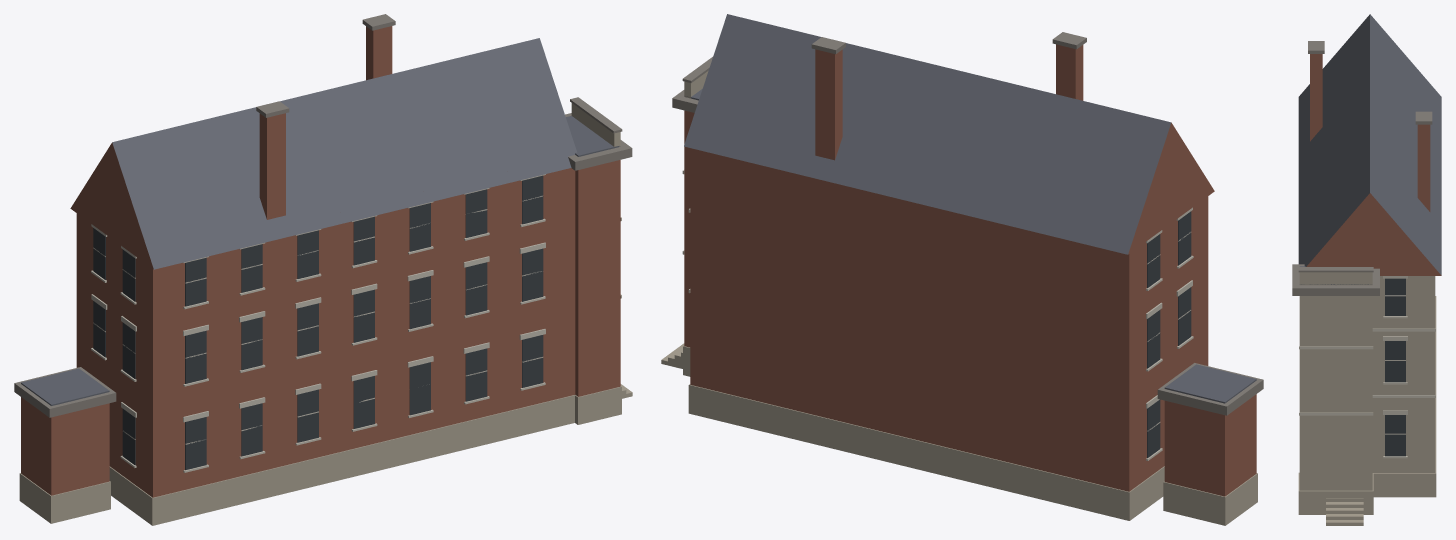
The model's file is rees_house_2110_prairie__draft_1904.glb.
3 renders of one model, left to right at view 1: azimuth 30°, elevation 25°; view 2: azimuth 150°, elevation 25°; view 3: azimuth 270°, elevation 25°, orthographic. The views are drawn at different scales.
Visible parts, largest first — view 1: rees_house_2110_prairie__draft_1904; view 2: rees_house_2110_prairie__draft_1904; view 3: rees_house_2110_prairie__draft_1904.
Boxes of the visible parts, x1,y1,x2,y2 form: rees_house_2110_prairie__draft_1904: (14, 14, 632, 525); rees_house_2110_prairie__draft_1904: (661, 14, 1263, 525); rees_house_2110_prairie__draft_1904: (1292, 14, 1441, 525).
Size of the model in its own units: 27 by 17.28 by 7.15.
